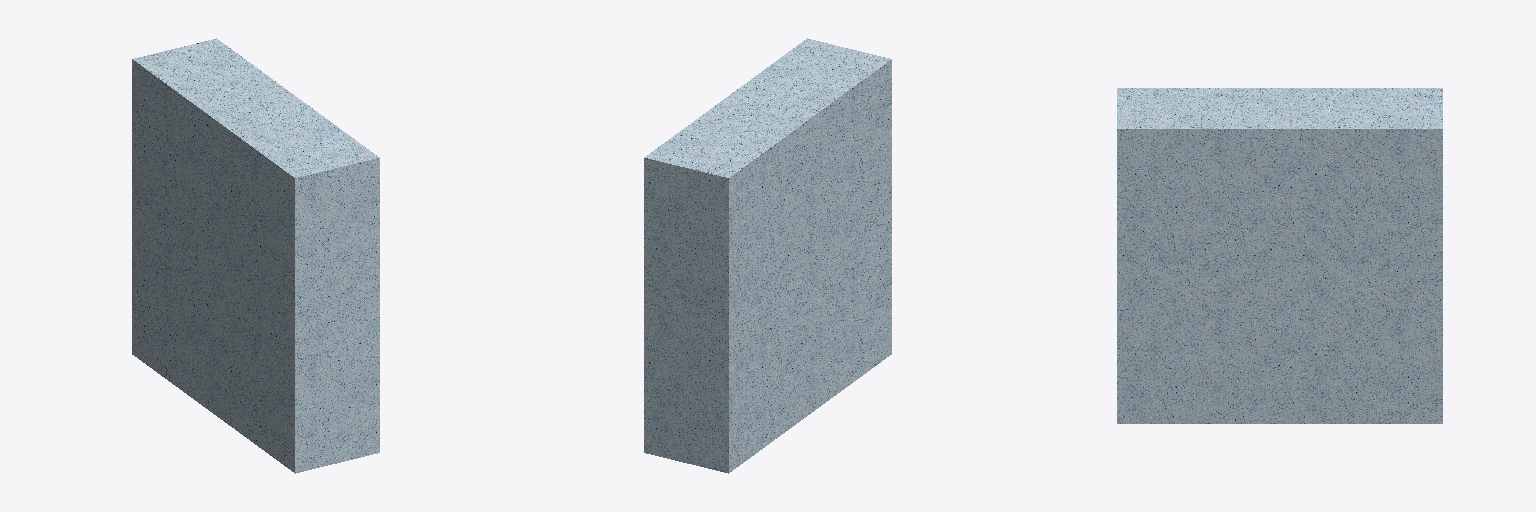
3 renders of one model, left to right at view 1: azimuth 30°, elevation 25°; view 2: azimuth 150°, elevation 25°; view 3: azimuth 270°, elevation 25°, orthographic.
Parts seen in each view (by area): view 1: Mesh1 Model; view 2: Mesh1 Model; view 3: Mesh1 Model.
Part boxes in pixels (x1,y1,x2,y2): Mesh1 Model: (132, 38, 379, 473); Mesh1 Model: (644, 38, 891, 473); Mesh1 Model: (1117, 88, 1442, 423).
Size of the model in its own units: 0.15 by 0.5 by 0.5.
1 materials, 1 textured.